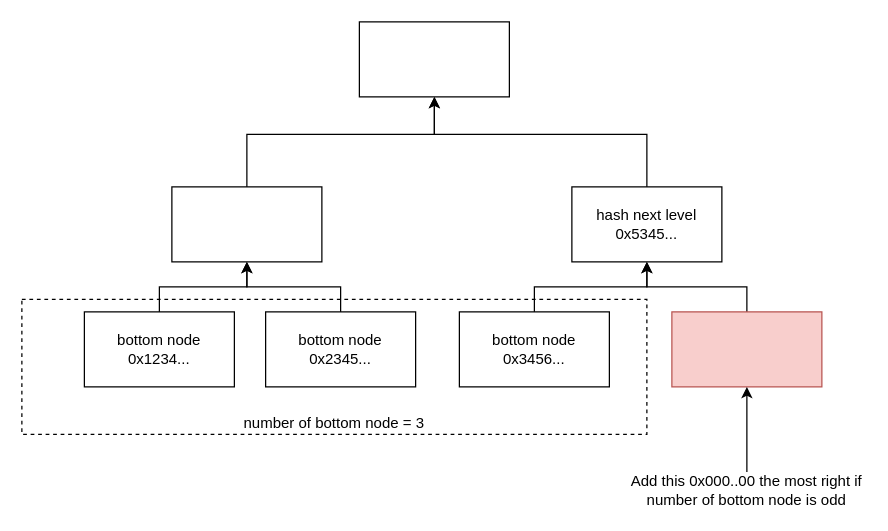
Image size: 888x531. Some labels were removed from this diagram. Here are the shapes that lost their labels. From the top down, the centre of each, then its label:
[433,59]: root hash of tree 0x4569...
[246,224]: hash next level 0x3545...
[746,349]: bottom node 0x0000...000
